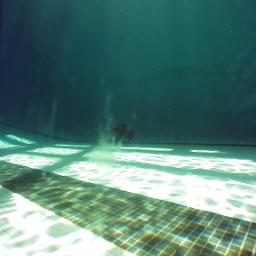Side: (103, 121, 136, 143)
